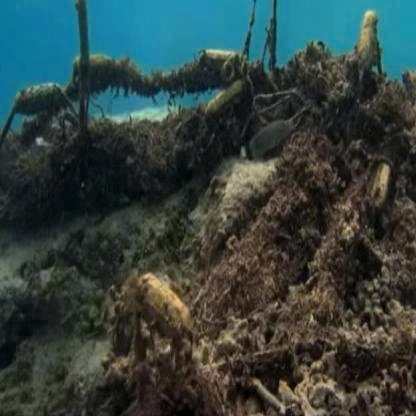net: (255, 47, 382, 286)
